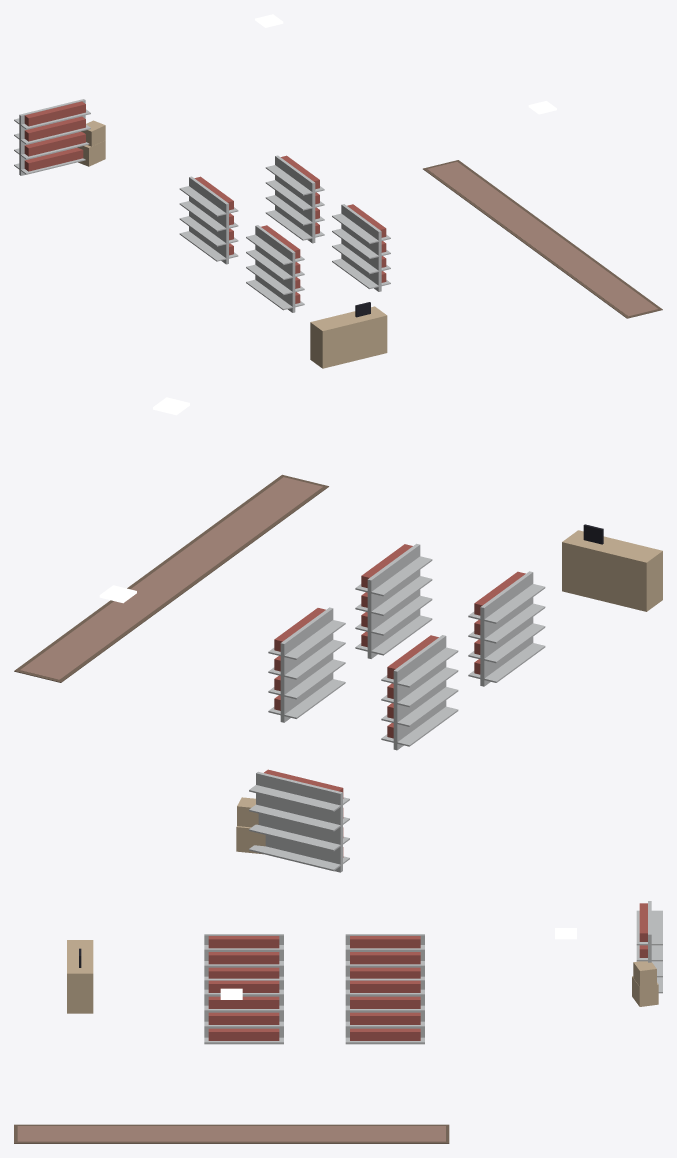
The model's file is fine-s0.glb.
3 views of the same model, one above another, from view 1: azimuth 30°, elevation 25°; view 2: azimuth 150°, elevation 25°; view 3: azimuth 270°, elevation 25° (orthographic). The views are drawn at different scales.
Parts seen in each view (by area): view 1: soft-s0, shelving.000, shop-counter.000, shelf.003, shelf.001, shelf.002, shelf.000, cardboard-box.000; view 2: soft-s0, shelving.000, shop-counter.000, shelf.001, shelf.002, shelf.000, shelf.003, cardboard-box.000; view 3: soft-s0, shelf.002, shelf.003, shelf.000, shelf.001, shop-counter.000, shelving.000, cardboard-box.000.
Boxes of the visible parts, left/top/right/bottom form: soft-s0: left=423, top=160, right=662, bottom=318; shelving.000: left=14, top=99, right=90, bottom=175; shop-counter.000: left=310, top=302, right=387, bottom=368; shelf.003: left=332, top=204, right=390, bottom=291; shelf.001: left=246, top=225, right=304, bottom=312; shelf.002: left=265, top=155, right=324, bottom=243; shelf.000: left=179, top=176, right=238, bottom=264; cardboard-box.000: left=77, top=120, right=105, bottom=166; soft-s0: left=14, top=474, right=328, bottom=682; shelving.000: left=249, top=769, right=349, bottom=872; shop-counter.000: left=562, top=524, right=662, bottom=611; shelf.001: left=468, top=571, right=545, bottom=686; shelf.002: left=268, top=607, right=345, bottom=722; shelf.000: left=381, top=635, right=458, bottom=750; shelf.003: left=355, top=543, right=432, bottom=658; cardboard-box.000: left=236, top=797, right=265, bottom=854; soft-s0: left=14, top=1124, right=449, bottom=1143; shelf.002: left=345, top=978, right=424, bottom=1044; shelf.003: left=204, top=978, right=283, bottom=1044; shelf.000: left=345, top=934, right=424, bottom=978; shelf.001: left=204, top=934, right=283, bottom=978; shop-counter.000: left=67, top=940, right=93, bottom=1013; shelving.000: left=636, top=901, right=662, bottom=993; cardboard-box.000: left=632, top=961, right=658, bottom=1006.
Bounding box in the file's own units: 9.59 × 3.53 × 14.71.
